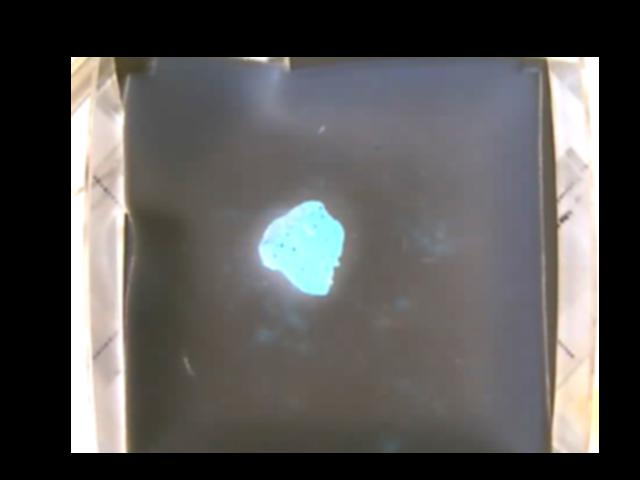Brisk: (259, 199, 345, 296)
